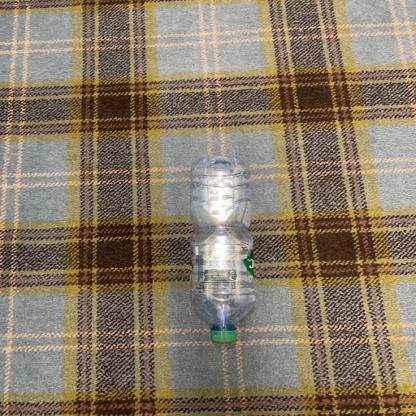trash: (187, 154, 261, 341)
